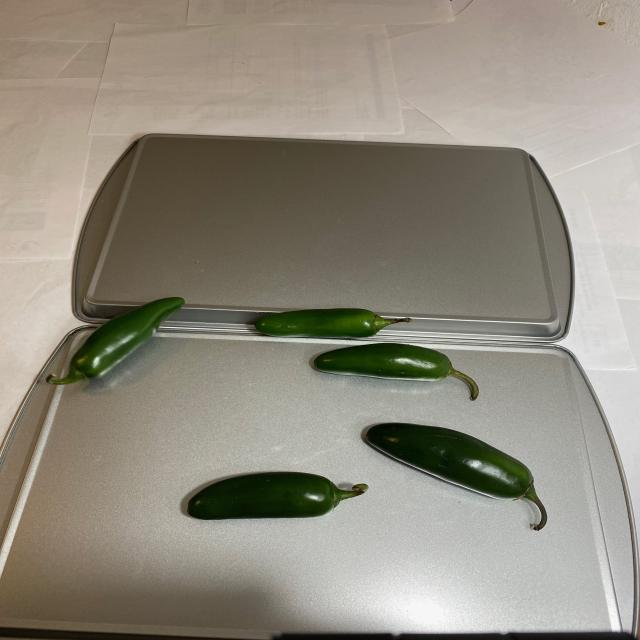chilli: (56, 301, 552, 537)
